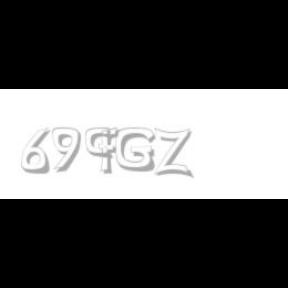6: (20, 128, 50, 176)
9: (51, 128, 80, 172)
G: (115, 128, 155, 172)
Z: (154, 128, 192, 178)
c: (86, 128, 114, 160)
f: (99, 128, 123, 174)
